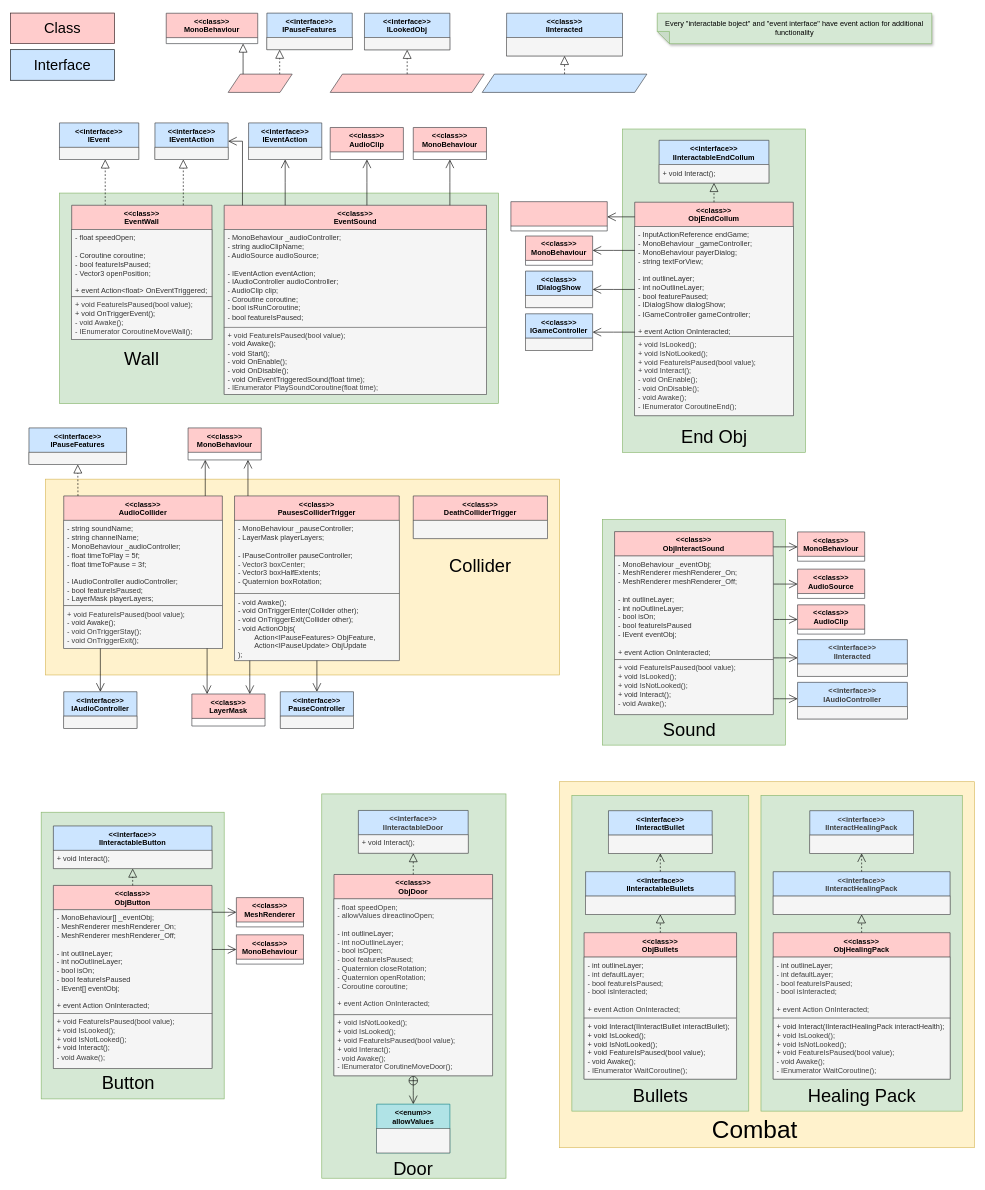
This 985x1190 diagram has some shape labels left out. Here are the shapes that lost their labels. From the top down, the centre of each, then its label:
the point at 564,46: public event Action OnInteracted;
the point at 260,83: All Classes
the point at 407,83: All Classes what implement IInteractable
the point at 564,83: Implemented from every Interact interface
the point at 558,216: <<class>> InputActionReference
the point at 480,529: - void OnTriggerEnter(Collider other);
the point at 660,843: + void GetBunchOfBullets();
the point at 861,843: + void GetHealingPack();
the point at 660,904: + void Interact(IInteractBullet interactBullet);
the point at 861,904: + void Interact(IInteractHealingPack interactHealth);
the point at 413,1140: negative = -1; positive = 1;
